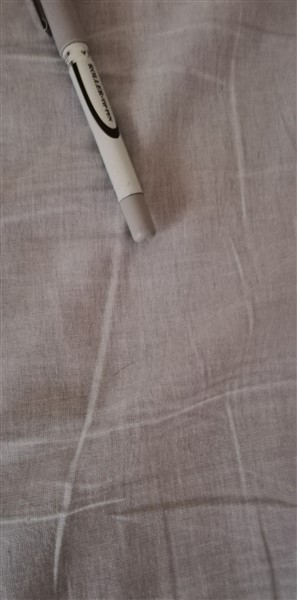pilot kalem: (17, 1, 163, 244)
